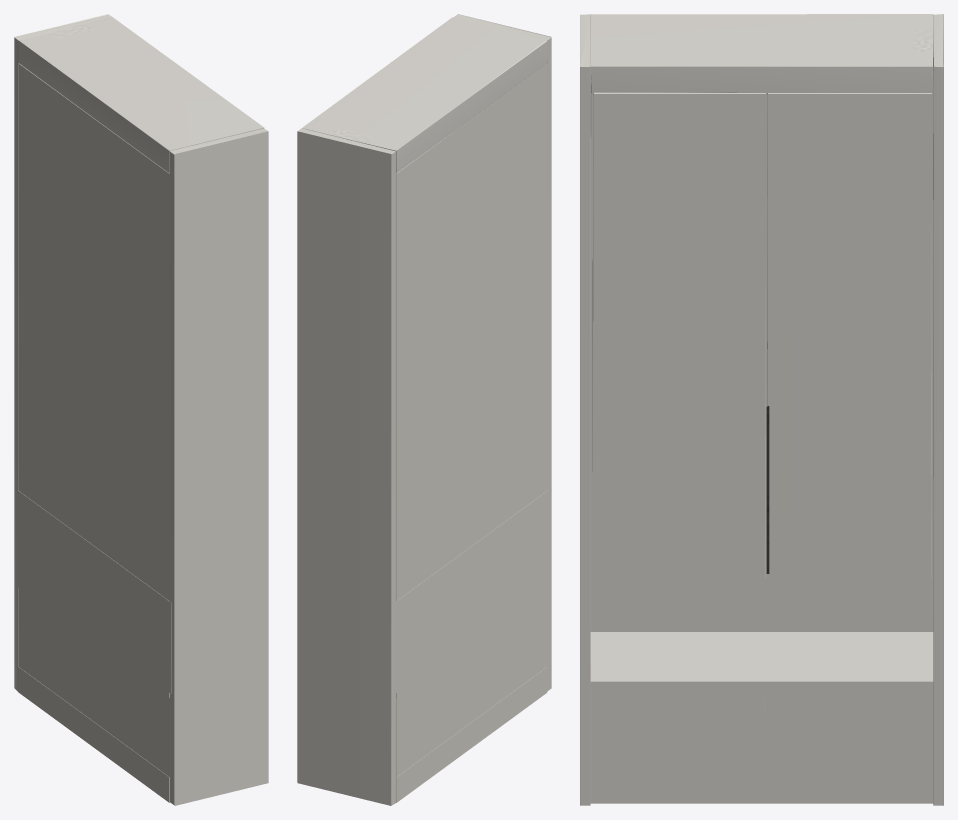
The model's file is Cupboard0016.obj.
The picture shows the model from 3 angles, left to right: view 1: azimuth 30°, elevation 25°; view 2: azimuth 150°, elevation 25°; view 3: azimuth 270°, elevation 25°; orthographic projection. The views are drawn at different scales.
Size of the model in its own units: 0.356 by 2.29 by 1.02.
Materials: 1 (1 with a texture image).
